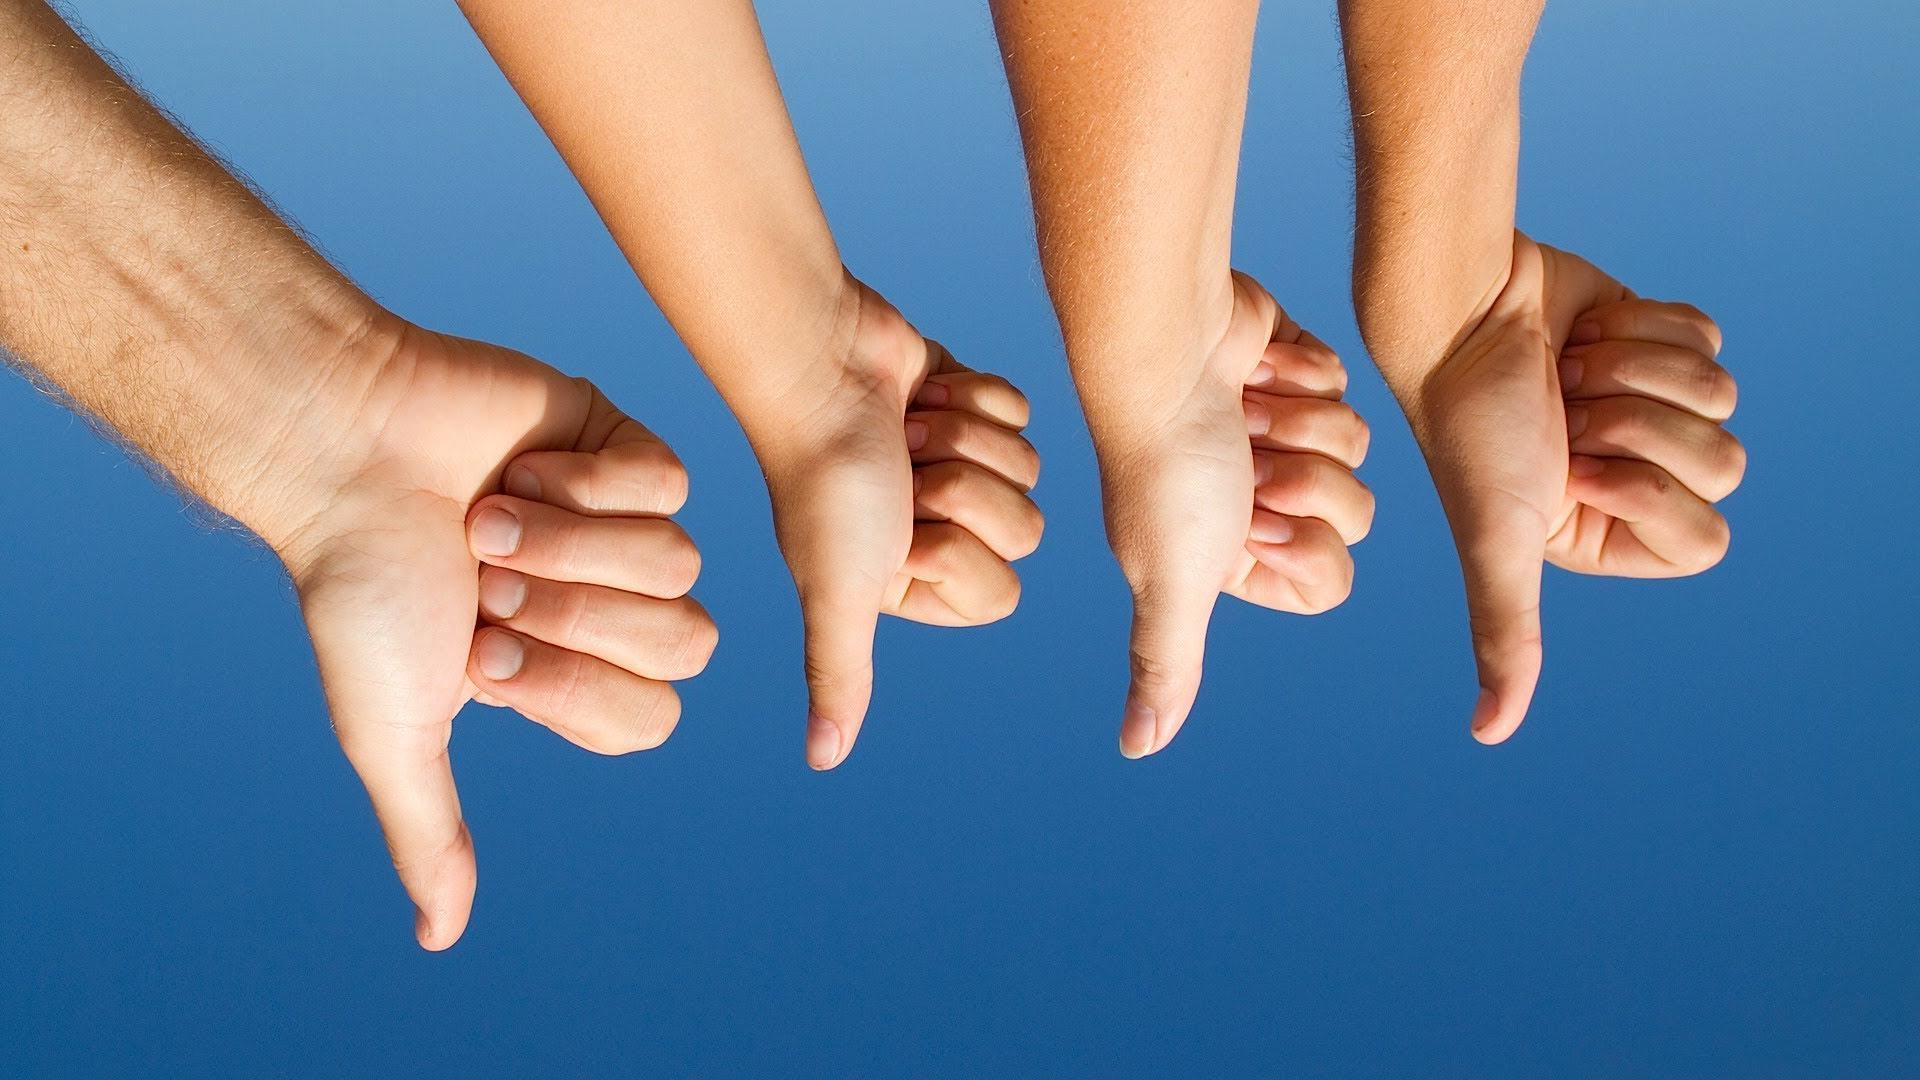thumbsdown: (367, 343, 731, 953), (1456, 240, 1753, 748), (1105, 287, 1382, 761), (796, 320, 1046, 777)
